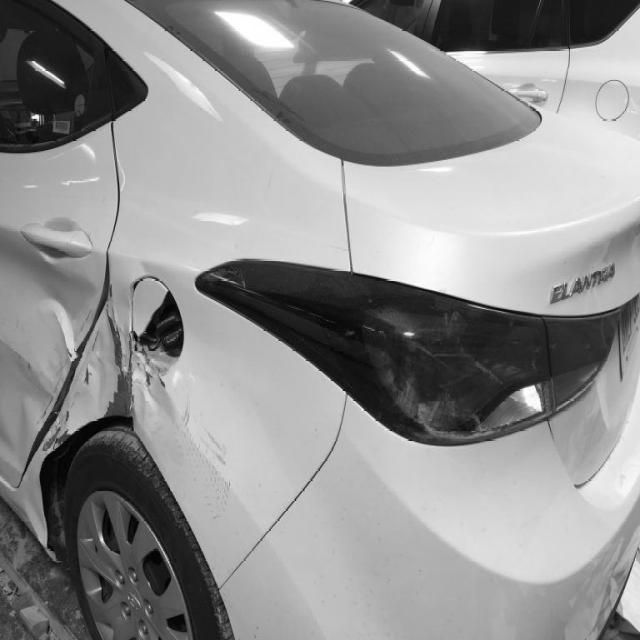crush: (0, 232, 241, 561)
